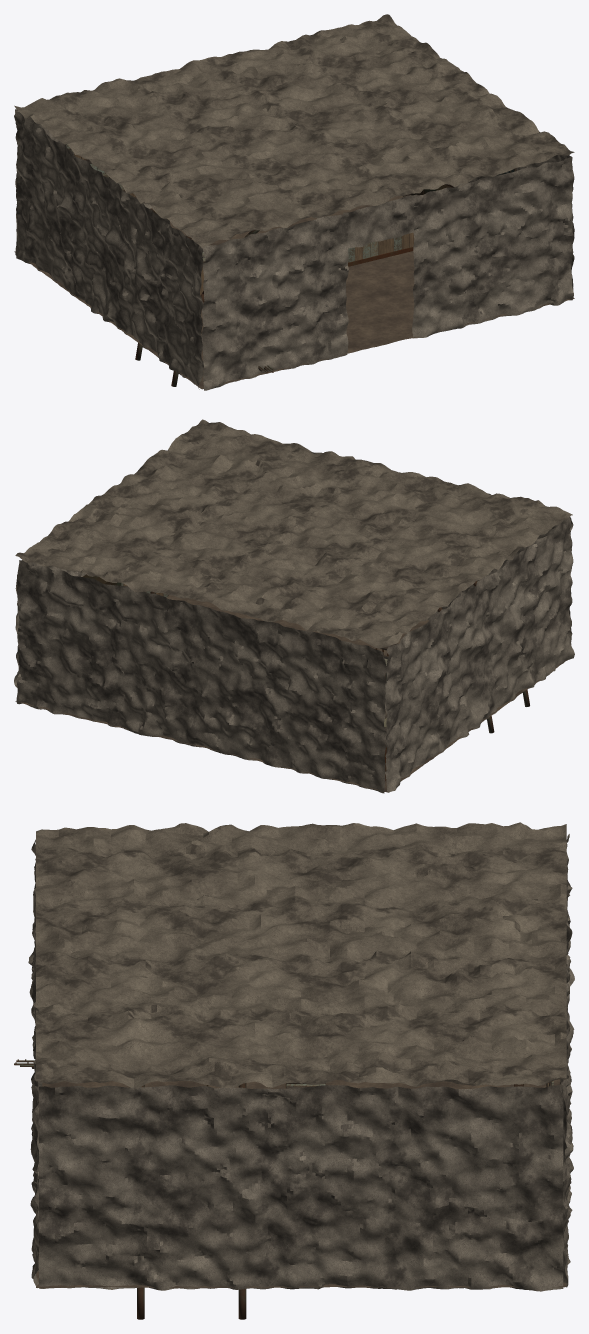
The model's file is env_sanctuary_trade_hall.gltf.
The picture shows the model from 3 angles, top to bottom: view 1: azimuth 30°, elevation 25°; view 2: azimuth 150°, elevation 25°; view 3: azimuth 270°, elevation 25°; orthographic projection. The views are drawn at different scales.
Visible parts, largest first — view 1: trade_hall_rock_mine_01, trade_hall_rock_mine_02, trade_hall_earth_packed_01, trade_hall_plank_survivor_01; view 2: trade_hall_rock_mine_01, trade_hall_rock_mine_02, trade_hall_earth_packed_01; view 3: trade_hall_rock_mine_02, trade_hall_rock_mine_01, trade_hall_earth_packed_01.
Part boxes in pixels (<box>): trade_hall_rock_mine_01: <box>14,109,574,390</box>; trade_hall_rock_mine_02: <box>14,14,574,248</box>; trade_hall_earth_packed_01: <box>14,195,574,389</box>; trade_hall_plank_survivor_01: <box>65,144,414,381</box>; trade_hall_rock_mine_01: <box>14,449,574,793</box>; trade_hall_rock_mine_02: <box>15,419,572,648</box>; trade_hall_earth_packed_01: <box>15,595,568,792</box>; trade_hall_rock_mine_02: <box>36,822,566,1089</box>; trade_hall_rock_mine_01: <box>28,832,574,1291</box>; trade_hall_earth_packed_01: <box>36,1079,566,1287</box>.
Size of the model in its own units: 9.82 by 4.36 by 8.83.
17 materials, 15 textured.
